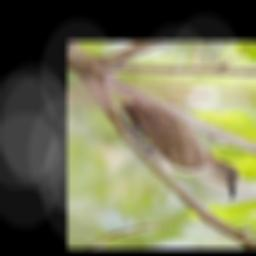Cuckoo: (115, 98, 242, 204)
